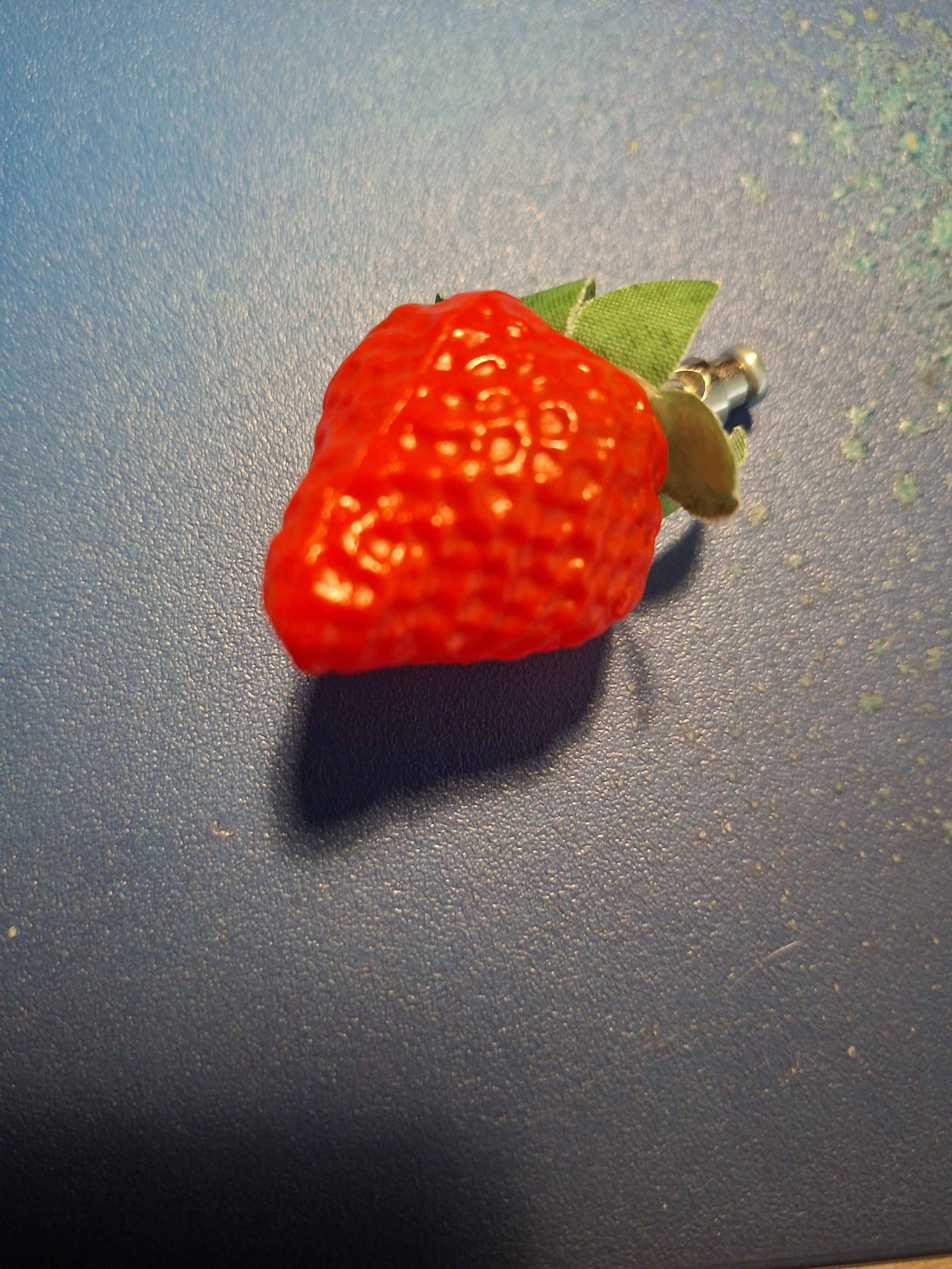Strawberry: (236, 272, 684, 700)
